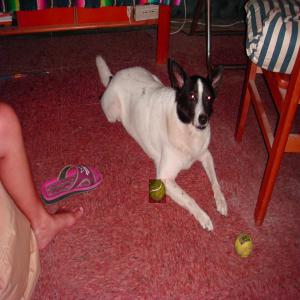TennisBall: (151, 180, 169, 205), (235, 235, 253, 259)
